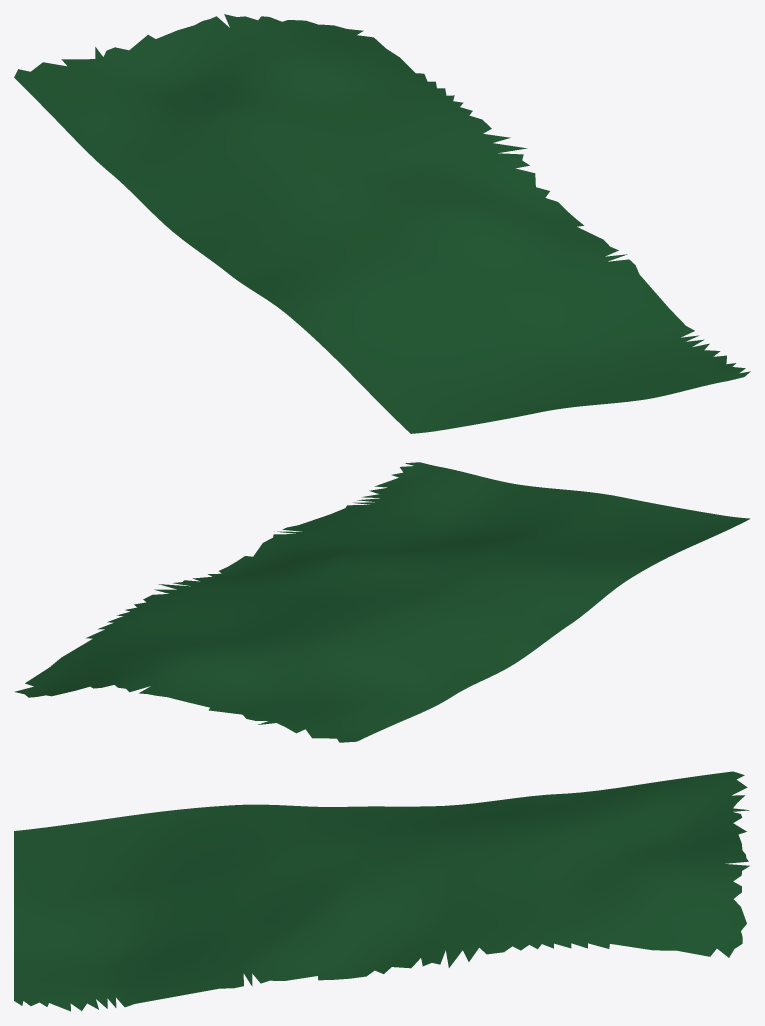
The model's file is payo_land_x4_y2.glb.
3 renders of one model, top to bottom at view 1: azimuth 30°, elevation 25°; view 2: azimuth 150°, elevation 25°; view 3: azimuth 270°, elevation 25°, orthographic. The views are drawn at different scales.
Visible parts, largest first — view 1: payo_land_x4_y2; view 2: payo_land_x4_y2; view 3: payo_land_x4_y2.
Part boxes in pixels (x1,y1,x2,y2): payo_land_x4_y2: (14,14,750,433); payo_land_x4_y2: (14,462,750,742); payo_land_x4_y2: (14,771,749,1011).
Bounding box in the file's own units: 132 × 34.89 × 260.
